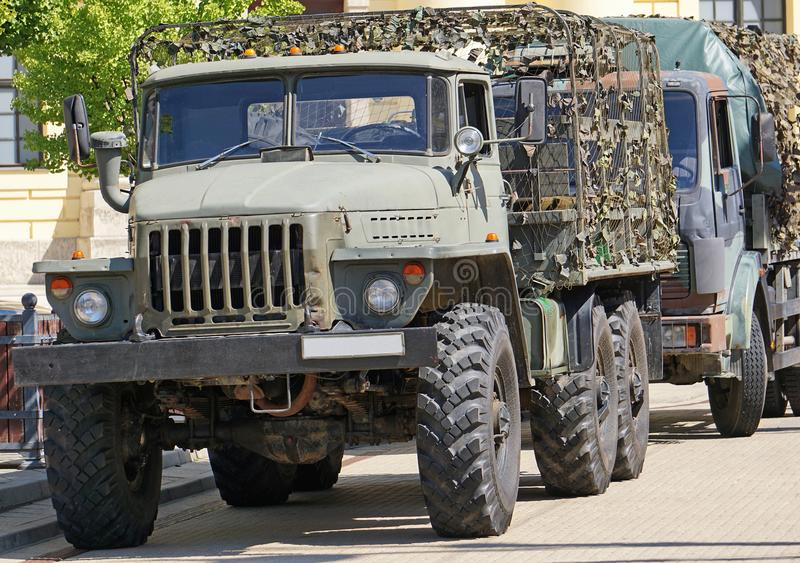camion: (38, 16, 636, 525)
